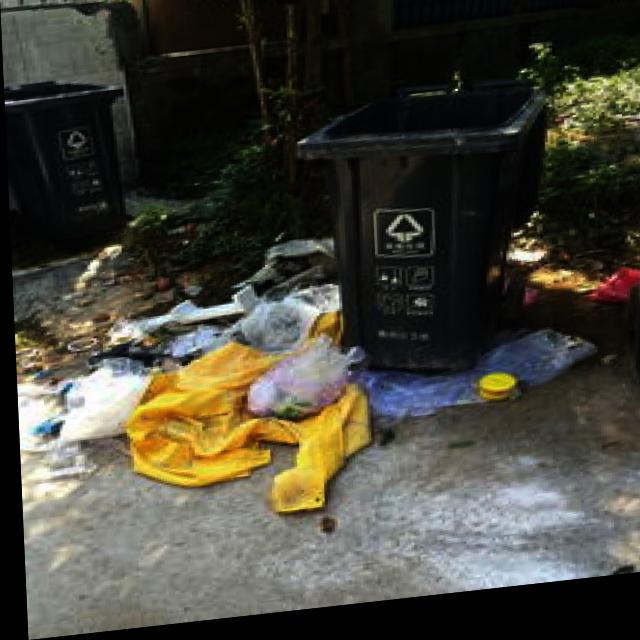garbage: (9, 213, 640, 538)
garbage_bin: (289, 88, 551, 392), (3, 73, 125, 245)
